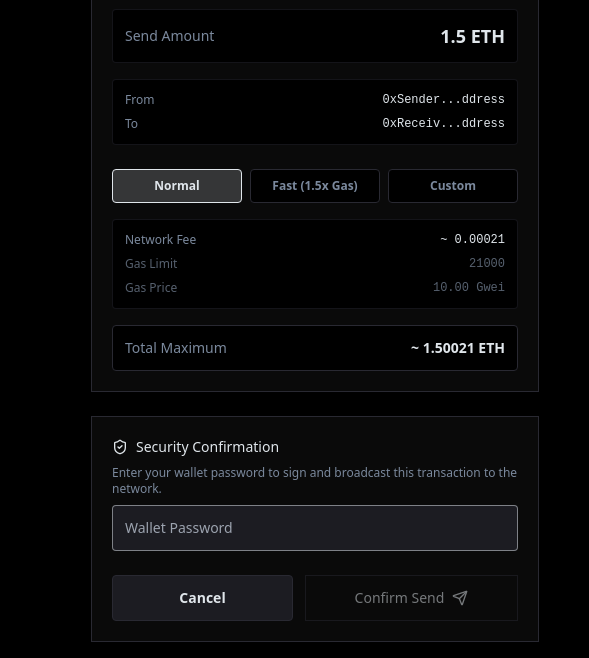
Test: SendConfirmView Component › sends the transaction and shows success
(page scrolled)
Type "mypassword" into the password field with placeholder "Wallet Password".
click(315, 528); type("mypassword")  # box [112,505,518,551]
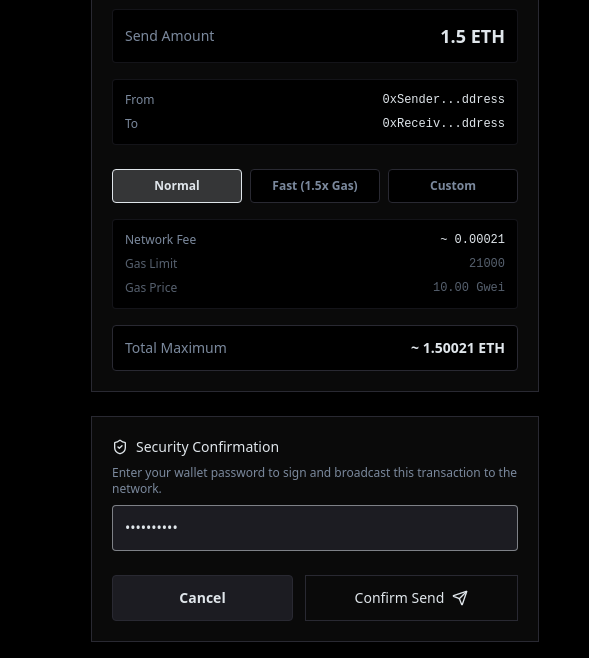
Click the button "Confirm Send".
click(412, 598)  # box [305,575,518,621]
(page scrolled)
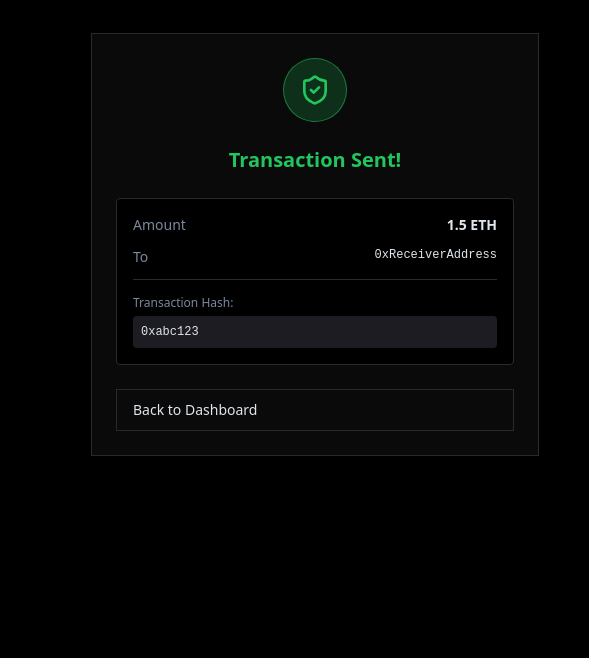
Expected: the heading "Transaction Sent!" is shown, [229,146,401,173]
Expected: the text "0xabc123" is shown, [133,316,497,348]
